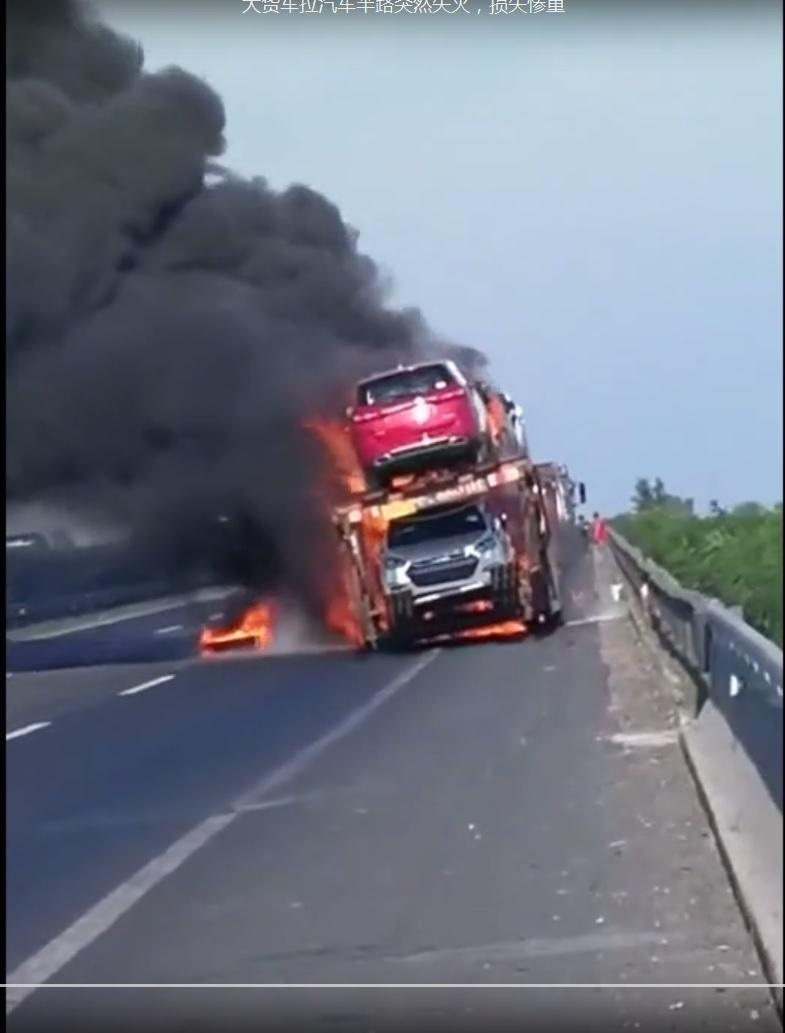fire: (317, 420, 402, 646), (202, 600, 277, 651)
